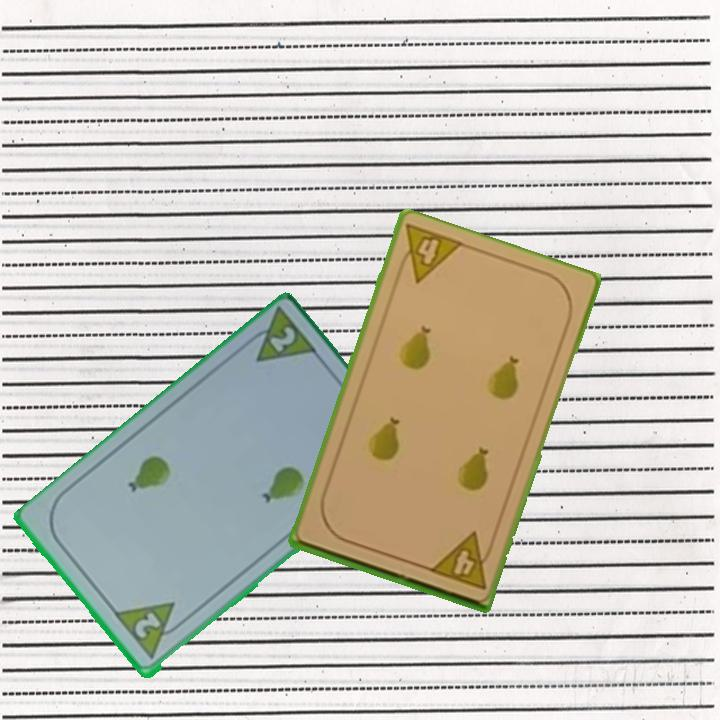2p: (112, 598, 190, 664), (265, 323, 299, 356)
4p: (391, 220, 466, 286), (425, 529, 497, 592)
